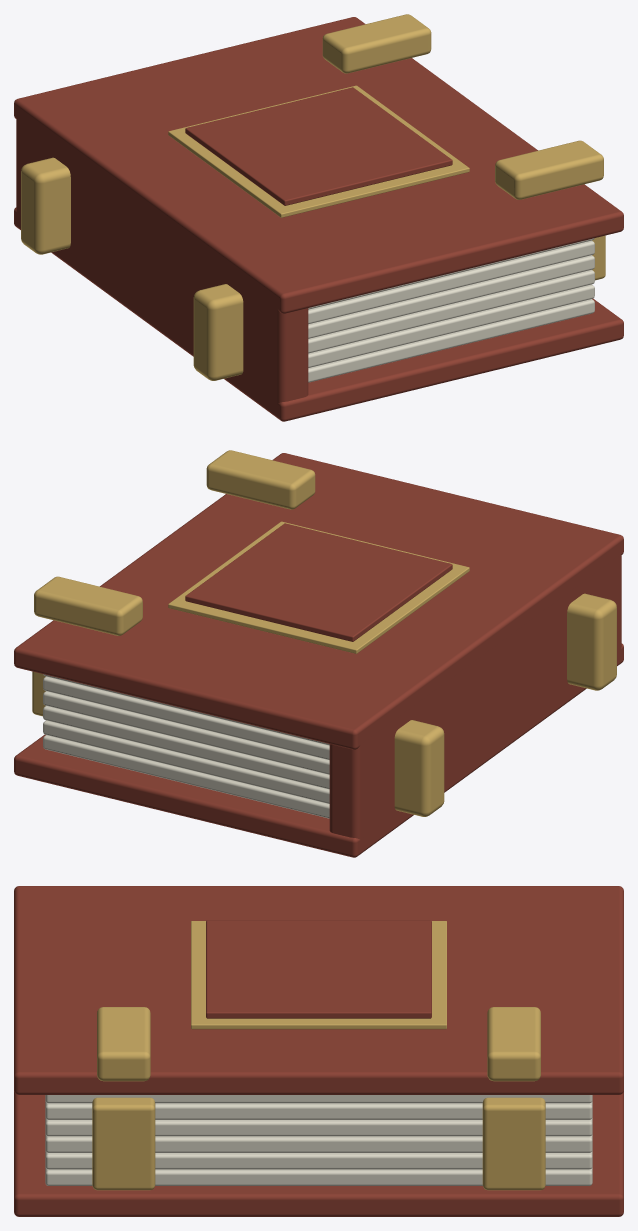
Rendered from clasp-book.glb.
3 renders of one model, top to bottom at view 1: azimuth 30°, elevation 25°; view 2: azimuth 150°, elevation 25°; view 3: azimuth 270°, elevation 25°, orthographic. The views are drawn at different scales.
Visible parts, largest first — view 1: finished-clasp-book; view 2: finished-clasp-book; view 3: finished-clasp-book.
Part boxes in pixels (x1,y1,x2,y2): finished-clasp-book: [14, 14, 623, 421]; finished-clasp-book: [14, 450, 623, 857]; finished-clasp-book: [14, 886, 623, 1216].
Bounding box in the file's own units: 0.2865 × 0.107 × 0.34.
